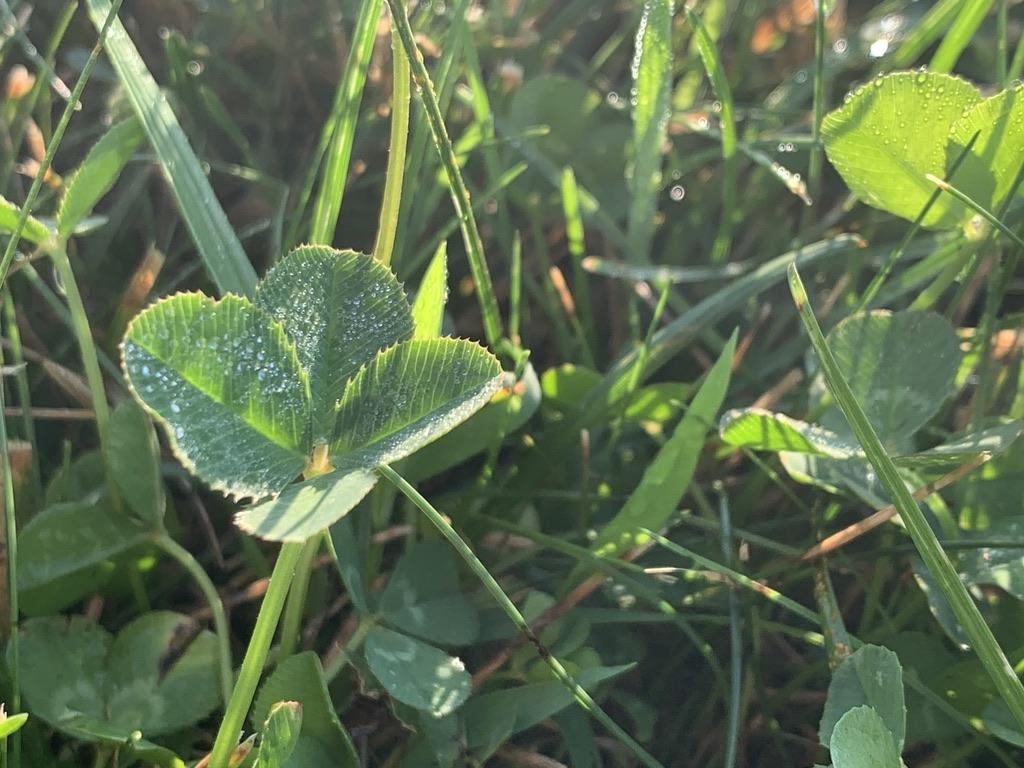4-Leaf-Clovers: (323, 387, 722, 675)
